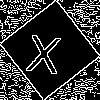X: (25, 25, 64, 75)
